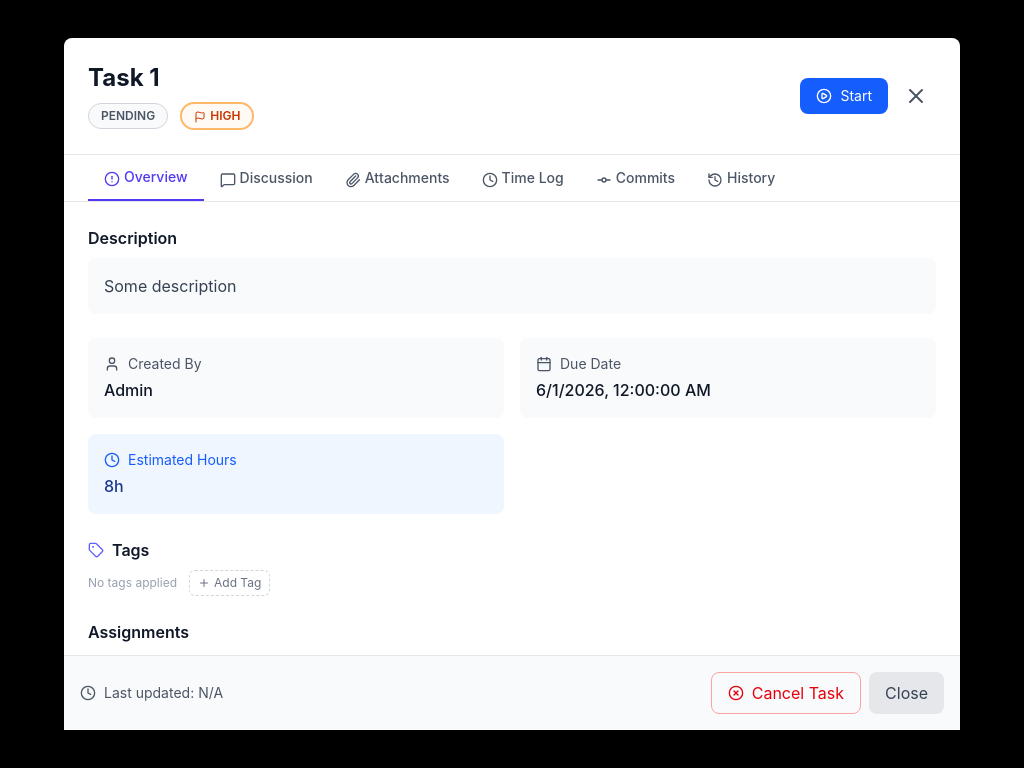
Scenario: TaskDetailsModal additional coverage › shows history tab with no entries message when empty
This screenshot has width=1024, height=768.
Click the button "History". click: (741, 178)
box: left=691, top=155, right=791, bottom=201
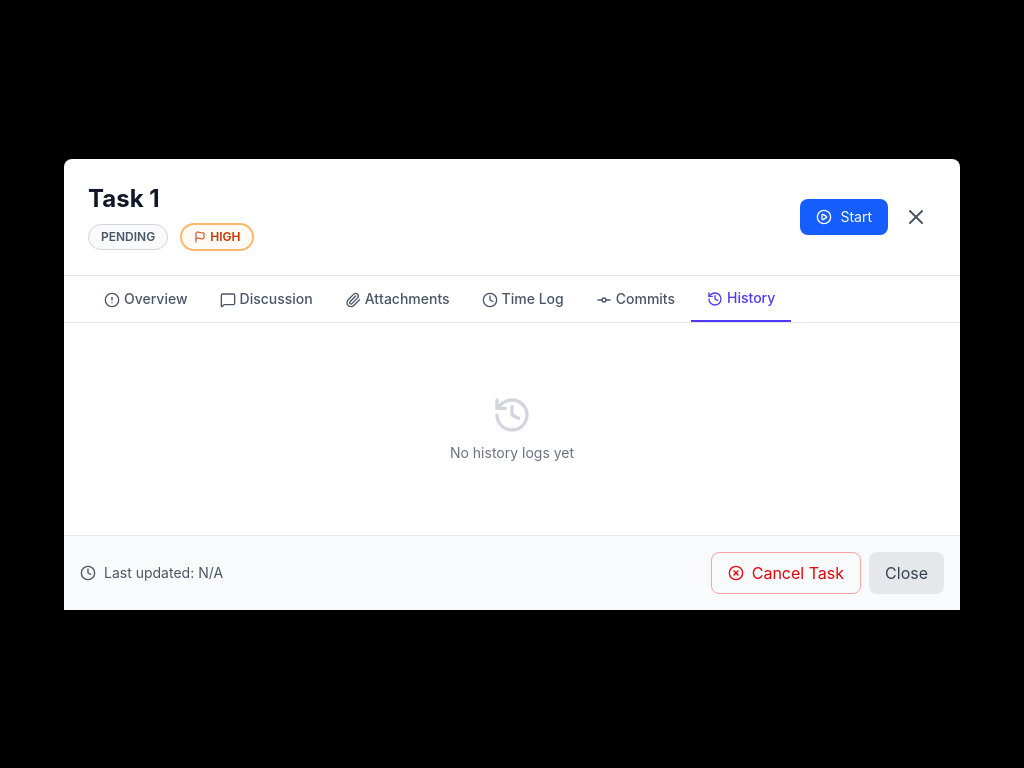
Result: the text "No history logs yet" is shown at left=450, top=444, right=574, bottom=460
